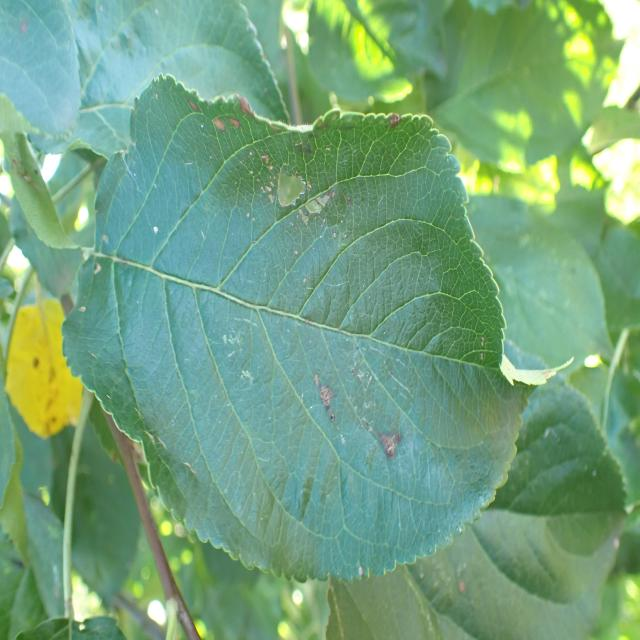frog-eye-leaf-spot: (61, 71, 576, 584)
